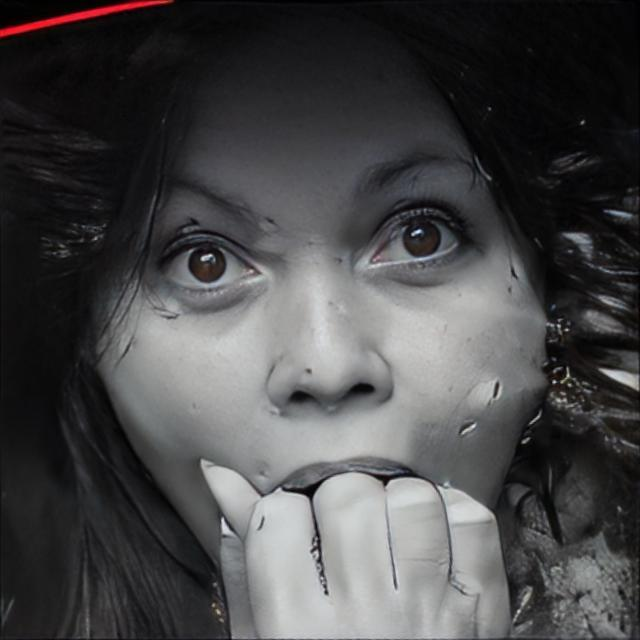fear: (91, 7, 547, 616)
